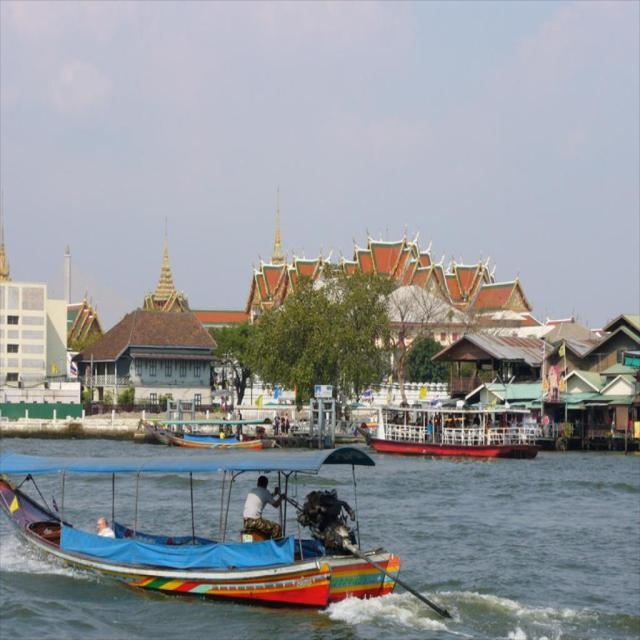Boat: (6, 454, 430, 619), (354, 403, 542, 462), (151, 416, 277, 450), (132, 418, 167, 443)
